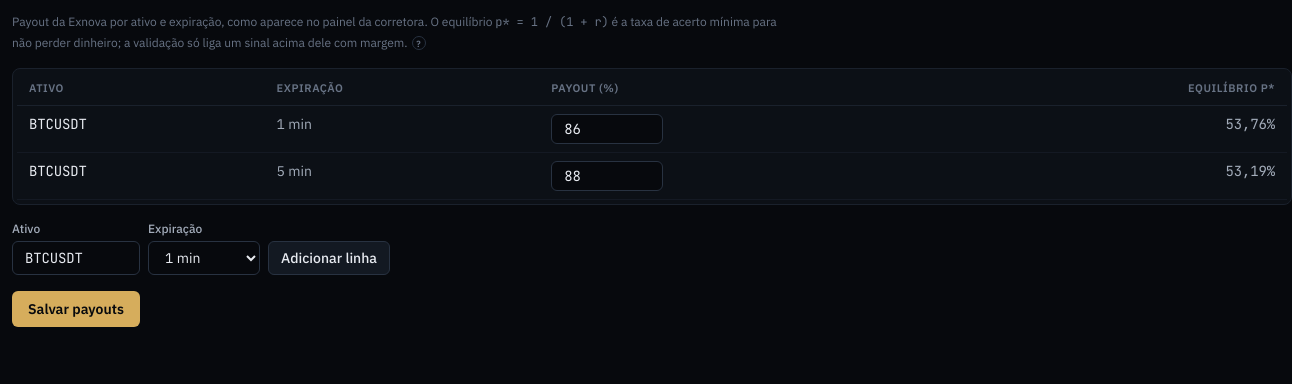
Test: EditorPayout › mostra o equilíbrio, valida a faixa e envia a lista inteira com PUT
Later steps or results of the test are not shown.
Expected: the text "53,76%" is shown, [951,106,1287,152]
Replace the text in the number field named "Payout BTCUSDT 1 min" with "120" at (607, 129), box [551,114,663,144]
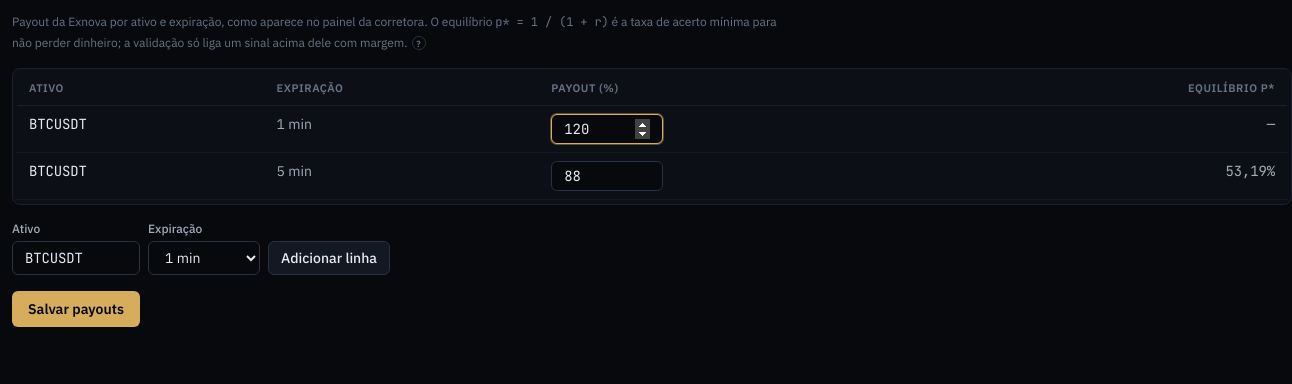
Click the button "Salvar payouts" at (76, 309), box [12,291,140,327]
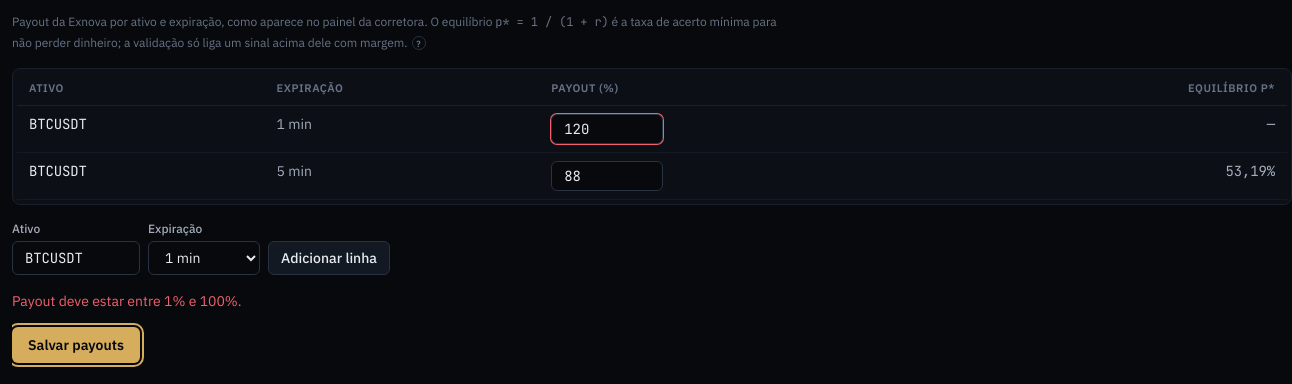
Now the message reads "Payout deve estar entre 1% e 100%.", box [12,292,242,310]
